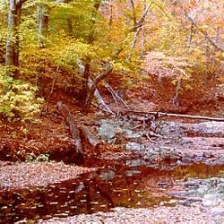neutral: (1, 1, 222, 222)
